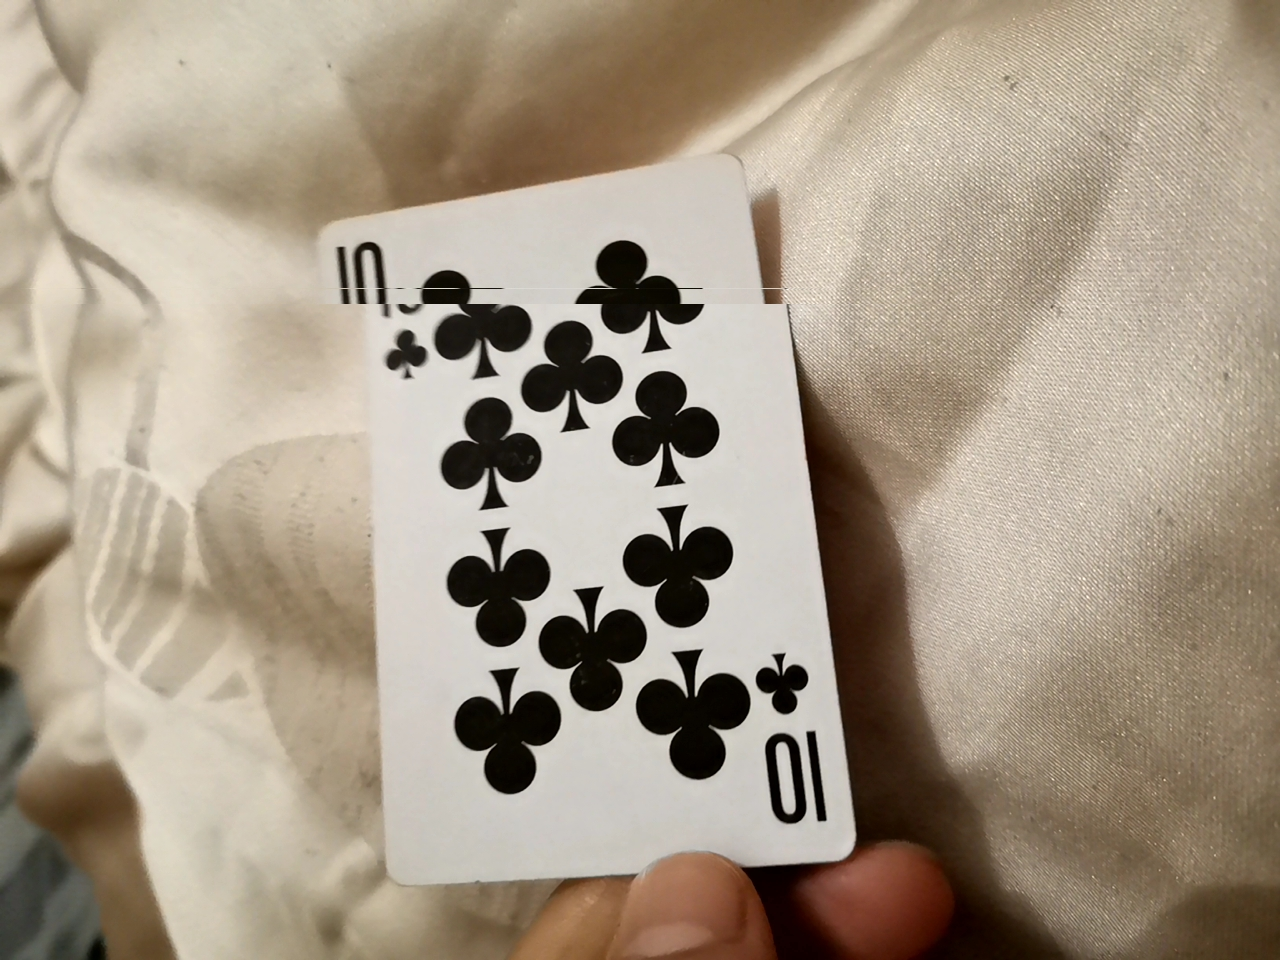mh 10: (324, 153, 838, 908)
